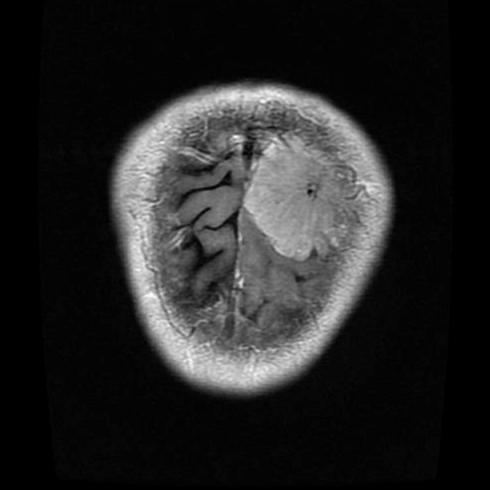Tumour-Meningioma: (230, 135, 363, 269)
